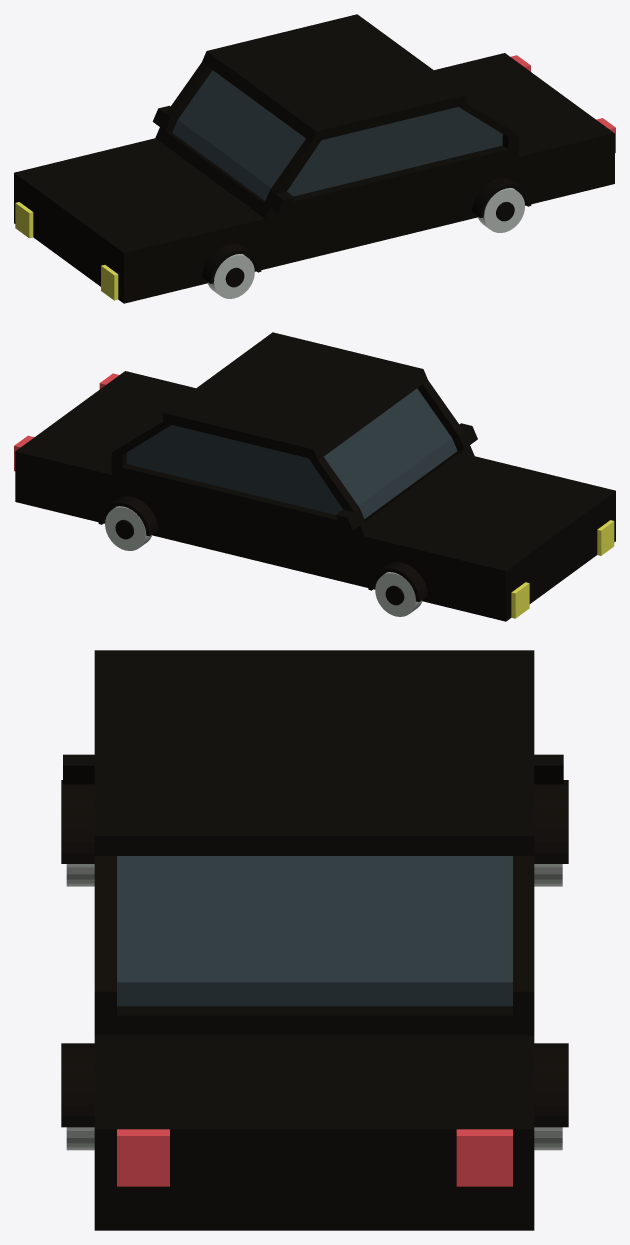
File: Opfercar.fbx
3 renders of one model, top to bottom at view 1: azimuth 30°, elevation 25°; view 2: azimuth 150°, elevation 25°; view 3: azimuth 270°, elevation 25°, orthographic. The views are drawn at different scales.
Visible parts, largest first — view 1: Cube, Cylinder, Cylinder.002, Cylinder.001; view 2: Cube, Cylinder, Cylinder.002, Cylinder.001; view 3: Cube, Cylinder.002, Cylinder.
Boxes of the visible parts, x1,y1,x2,y2 form: Cube: (14,14,615,303); Cylinder: (207,188,524,298); Cylinder.002: (202,178,531,283); Cylinder.001: (225,202,514,287); Cube: (14,332,615,621); Cylinder: (105,506,422,616); Cylinder.002: (98,496,427,601); Cylinder.001: (115,519,404,605); Cube: (63,650,563,1230); Cylinder.002: (61,780,568,1127); Cylinder: (66,864,562,1150).
Bounding box in the file's own units: 690 × 184 × 302.
